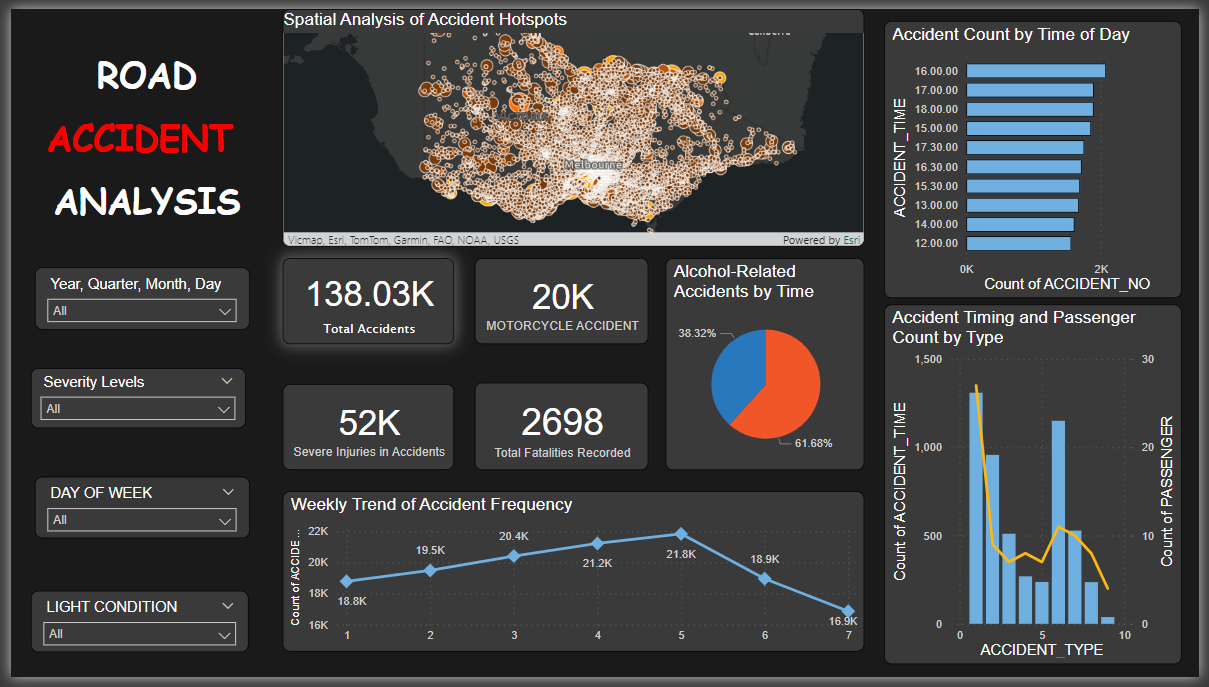

The dashboard page shown, as its layout file describes it:
{"tool":"powerbi","page":{"name":"Page 1","canvas":[1280,720],"ordinal":0},"visuals":[{"type":"textbox","box":[0,38.6,292.9,212.9],"z":0},{"type":"card","fields":{"Values":["CountNonNull(Accident_Dataset (1).ACCIDENT_NO)"]},"box":[292.6,268.1,184.9,93],"z":1000},{"type":"card","fields":{"Values":["Sum(Accident_Dataset (1).FATALITY)"]},"box":[499.5,402.8,187.3,94.3],"z":2000},{"type":"clusteredBarChart","title":"Accident Count by Time of Day","fields":{"Y":["CountNonNull(Accident_Dataset (1).ACCIDENT_NO)"],"Category":["Accident_Dataset (1).ACCIDENT_TIME"]},"box":[941.4,13.4,321.1,299.1],"z":3000},{"type":"lineClusteredColumnComboChart","title":"Accident Timing and Passenger Count by Type","fields":{"Category":["Accident_Dataset (1).ACCIDENT_TYPE"],"Y":["Count(Accident_Dataset (1).ACCIDENT_TIME)"],"Y2":["Count(Accident_Dataset (1).PASSENGER)"]},"box":[940.9,318.4,321,387.6],"z":4000},{"type":"slicer","fields":{"Values":["Accident_Dataset (1).ACCIDENT_DATE.Variation.Date Hierarchy.Year","Accident_Dataset (1).ACCIDENT_DATE.Variation.Date Hierarchy.Quarter","Accident_Dataset (1).ACCIDENT_DATE.Variation.Date Hierarchy.Month","Accident_Dataset (1).ACCIDENT_DATE.Variation.Date Hierarchy.Day"]},"box":[25.7,279.1,231.4,67.3],"z":5000},{"type":"slicer","fields":{"Values":["Accident_Dataset (1).SEVERITY"]},"box":[22,386.9,231.4,64.9],"z":6000},{"type":"slicer","fields":{"Values":["Accident_Dataset (1).LIGHT_CONDITION"]},"box":[22,626.8,235.1,66.1],"z":7000},{"type":"slicer","fields":{"Values":["Accident_Dataset (1).DAY_OF_WEEK"]},"box":[25.7,504.4,231.4,66.1],"z":8000},{"type":"lineChart","title":"Weekly Trend of Accident Frequency","fields":{"Category":["Accident_Dataset (1).DAY_OF_WEEK"],"Y":["CountNonNull(Accident_Dataset (1).ACCIDENT_NO)"]},"box":[292.6,520.3,626.8,172.6],"z":9000},{"type":"pieChart","title":"Alcohol-Related Accidents by Time","fields":{"Y":["CountNonNull(Accident_Dataset (1).ACCIDENT_NO)"],"Category":["Accident_Dataset (1).ALCOHOLTIME"]},"box":[705.2,268.1,214.2,228.9],"z":10000},{"type":"esriVisual","title":"Spatial Analysis of Accident Hotspots","fields":{"Latitude":["Accident_Dataset (1).LATITUDE"],"Longitude":["Accident_Dataset (1).LONGITUDE"],"Size":["Sum(Accident_Dataset (1).SEVERITY)"],"Color":["CountNonNull(Accident_Dataset (1).SEVERITY)"]},"box":[292.9,0,627.1,255.7],"z":11000},{"type":"card","title":"Severe Injuries in Accidents","fields":{"Values":["Sum(Accident_Dataset (1).SERIOUSINJURY)"]},"box":[292.6,404,184.8,93],"z":12000},{"type":"card","fields":{"Values":["Sum(Accident_Dataset (1).MOTORCYCLE)"]},"box":[500,268.8,187.5,92.5],"z":13000}]}

Visuals, with their boxes in screenshot pixels (x1, y1, x2, y2), scaled from the page's 1280x720 canvas onto the 1209x687 screenshot:
textbox: (left=0, top=37, right=277, bottom=240)
card - CountNonNull(Accident_Dataset (1).ACCIDENT_NO): (left=276, top=256, right=451, bottom=345)
card - Sum(Accident_Dataset (1).FATALITY): (left=472, top=384, right=649, bottom=474)
"Accident Count by Time of Day" clusteredBarChart: (left=889, top=13, right=1192, bottom=298)
"Accident Timing and Passenger Count by Type" lineClusteredColumnComboChart: (left=889, top=304, right=1192, bottom=674)
slicer - Accident_Dataset (1).ACCIDENT_DATE.Variation.Date Hierarchy.Year x Accident_Dataset (1).ACCIDENT_DATE.Variation.Date Hierarchy.Quarter: (left=24, top=266, right=243, bottom=331)
slicer - Accident_Dataset (1).SEVERITY: (left=21, top=369, right=239, bottom=431)
slicer - Accident_Dataset (1).LIGHT_CONDITION: (left=21, top=598, right=243, bottom=661)
slicer - Accident_Dataset (1).DAY_OF_WEEK: (left=24, top=481, right=243, bottom=544)
"Weekly Trend of Accident Frequency" lineChart: (left=276, top=496, right=868, bottom=661)
"Alcohol-Related Accidents by Time" pieChart: (left=666, top=256, right=868, bottom=474)
"Spatial Analysis of Accident Hotspots" esriVisual: (left=277, top=0, right=869, bottom=244)
"Severe Injuries in Accidents" card: (left=276, top=385, right=451, bottom=474)
card - Sum(Accident_Dataset (1).MOTORCYCLE): (left=472, top=256, right=649, bottom=345)
